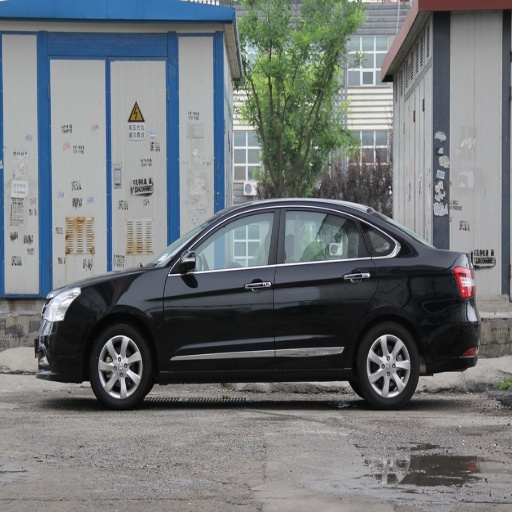back_left_door: (274, 205, 378, 364)
front_left_door: (164, 206, 279, 364)
